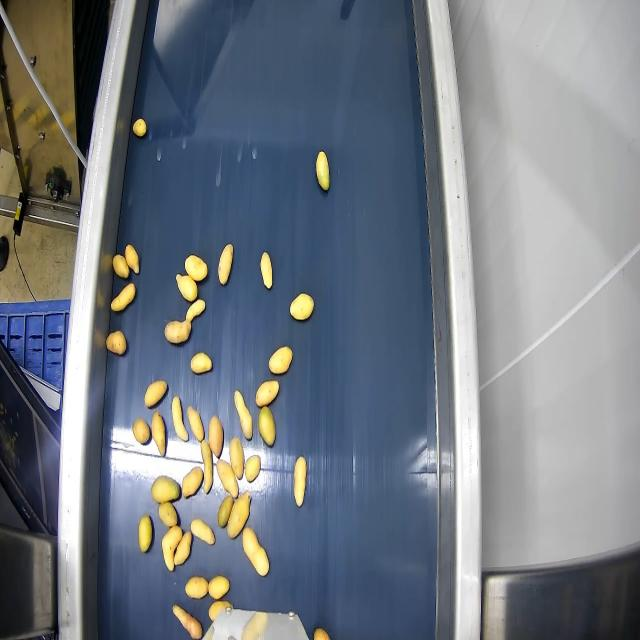Baby Potato: (242, 528, 269, 576), (227, 492, 251, 538), (173, 605, 202, 639), (162, 526, 182, 571), (234, 391, 252, 439), (217, 460, 238, 498), (151, 476, 179, 503), (172, 396, 188, 441), (182, 467, 204, 498), (111, 283, 135, 311), (258, 407, 275, 446), (290, 293, 314, 320), (269, 346, 292, 374), (151, 411, 165, 456), (144, 380, 167, 407), (218, 244, 233, 285), (294, 456, 306, 507), (174, 532, 192, 566), (230, 437, 244, 480), (165, 320, 191, 343), (256, 380, 278, 407), (201, 440, 212, 494), (209, 416, 223, 458), (176, 274, 197, 302), (191, 519, 214, 544), (185, 255, 207, 281), (138, 515, 153, 553), (188, 406, 204, 441), (185, 576, 208, 599), (217, 495, 233, 528), (316, 151, 329, 191), (106, 330, 126, 355), (208, 576, 229, 599), (209, 600, 232, 621), (191, 352, 212, 374), (132, 419, 150, 444), (260, 252, 272, 288), (159, 503, 177, 527), (186, 299, 205, 321), (112, 255, 129, 279), (245, 456, 260, 482), (125, 245, 138, 274), (132, 119, 146, 137), (313, 628, 330, 639)
